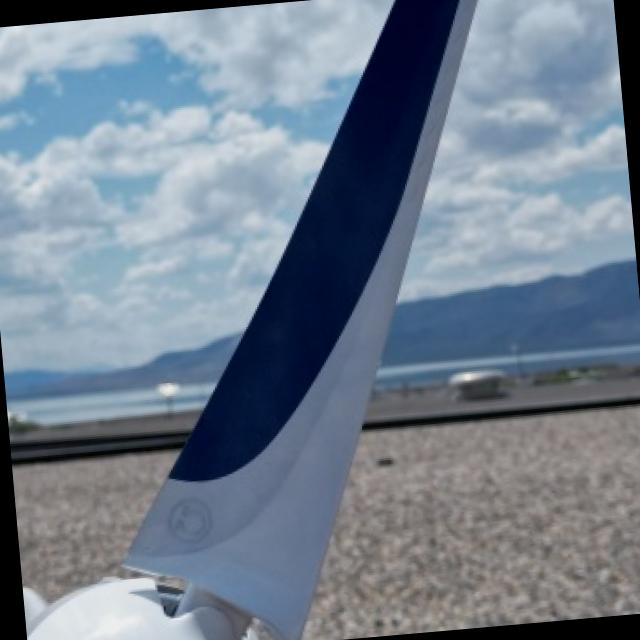healthy: (22, 0, 474, 640), (449, 538, 637, 613)
